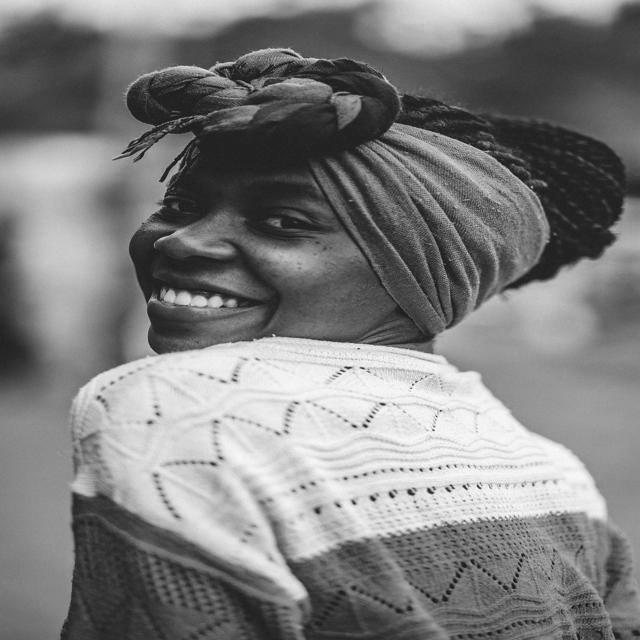Happiness: (125, 140, 370, 355)
